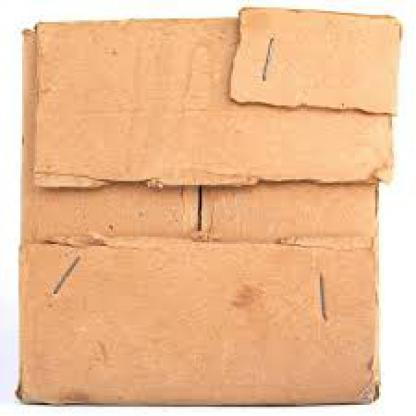CARDBOARD: (13, 4, 399, 405)
